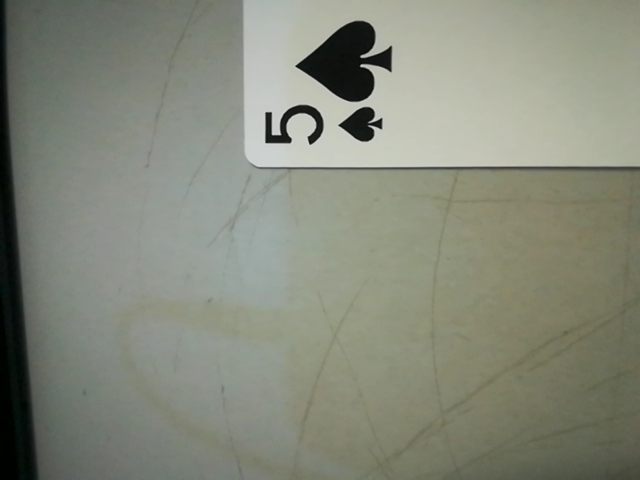ht 5: (252, 82, 394, 164)
